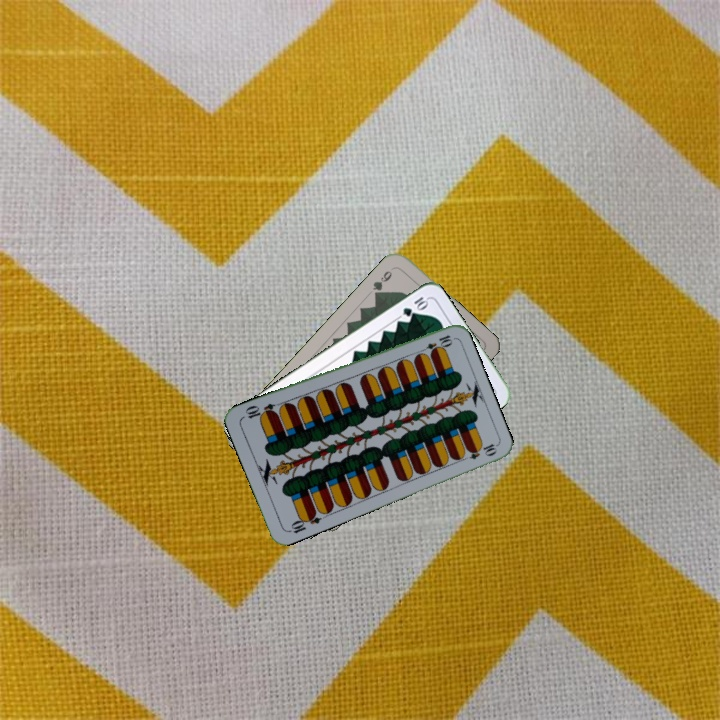E10: (284, 508, 323, 536), (415, 331, 455, 356)
G10: (399, 292, 431, 319)
G9: (368, 263, 397, 300)
